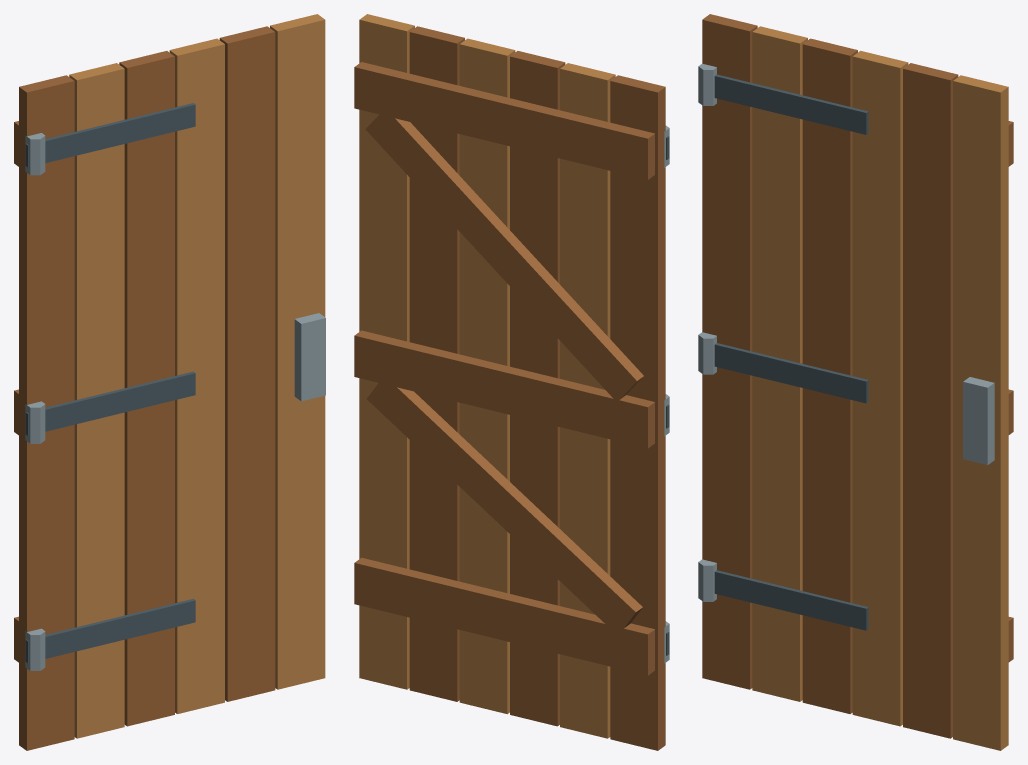
File: gate_double_leaf_left.glb
3 renders of one model, left to right at view 1: azimuth 30°, elevation 25°; view 2: azimuth 150°, elevation 25°; view 3: azimuth 330°, elevation 25°, orthographic.
Parts seen in each view (by area): view 1: Gate_L_Board_4, Gate_L_Board_0, Gate_L_Board_3, Gate_L_Board_5, Gate_L_Board_1, Gate_L_Board_2, Gate_L_Strap_1, Gate_L_Strap_2, Gate_L_Strap_0, Gate_L_Latch, Gate_L_Knuckle_2, Gate_L_Knuckle_1 (+1 smaller); view 2: Gate_L_Board_0, Gate_L_Board_5, Gate_L_Board_1, Gate_L_Board_4, Gate_L_Board_3, Gate_L_Board_2, Gate_L_Rail_2, Gate_L_Rail_1, Gate_L_Rail_0, Gate_L_Brace_1, Gate_L_Brace_0; view 3: Gate_L_Board_5, Gate_L_Board_4, Gate_L_Board_3, Gate_L_Board_1, Gate_L_Board_2, Gate_L_Board_0, Gate_L_Strap_2, Gate_L_Strap_0, Gate_L_Strap_1, Gate_L_Latch, Gate_L_Knuckle_1, Gate_L_Knuckle_0 (+1 smaller).
Boxes of the visible parts, x1,y1,x2,y2 form: Gate_L_Board_4: [219, 26, 275, 701]; Gate_L_Board_0: [19, 75, 74, 750]; Gate_L_Board_3: [169, 38, 224, 713]; Gate_L_Board_5: [270, 14, 325, 689]; Gate_L_Board_1: [69, 63, 124, 738]; Gate_L_Board_2: [119, 51, 174, 726]; Gate_L_Strap_1: [25, 371, 195, 435]; Gate_L_Strap_2: [25, 103, 195, 167]; Gate_L_Strap_0: [25, 598, 195, 662]; Gate_L_Latch: [294, 313, 325, 401]; Gate_L_Knuckle_2: [25, 133, 45, 175]; Gate_L_Knuckle_1: [25, 401, 45, 443]; Gate_L_Board_0: [610, 75, 665, 750]; Gate_L_Board_5: [359, 14, 414, 689]; Gate_L_Board_1: [560, 63, 615, 738]; Gate_L_Board_4: [409, 26, 464, 701]; Gate_L_Board_3: [459, 38, 515, 714]; Gate_L_Board_2: [510, 51, 565, 726]; Gate_L_Rail_2: [354, 62, 654, 179]; Gate_L_Rail_1: [354, 330, 654, 448]; Gate_L_Rail_0: [354, 557, 654, 675]; Gate_L_Brace_1: [365, 108, 643, 401]; Gate_L_Brace_0: [367, 375, 642, 628]; Gate_L_Board_5: [953, 75, 1008, 750]; Gate_L_Board_4: [903, 63, 958, 738]; Gate_L_Board_3: [852, 50, 908, 726]; Gate_L_Board_1: [752, 26, 807, 701]; Gate_L_Board_2: [802, 38, 857, 713]; Gate_L_Board_0: [702, 14, 757, 689]; Gate_L_Strap_2: [714, 74, 868, 134]; Gate_L_Strap_0: [714, 570, 868, 630]; Gate_L_Strap_1: [714, 343, 868, 403]; Gate_L_Latch: [963, 377, 994, 465]; Gate_L_Knuckle_1: [698, 332, 716, 374]; Gate_L_Knuckle_0: [698, 559, 716, 601].
Size of the model in its own units: 1.22 by 2.55 by 0.155.
